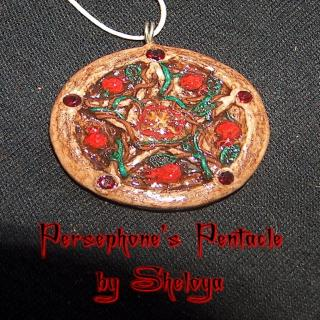Pizza: (65, 40, 275, 208)
